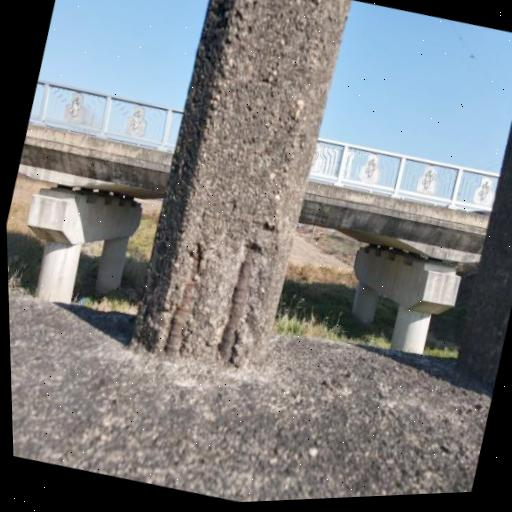exposed_rebar: (218, 245, 257, 363), (164, 244, 202, 356)
